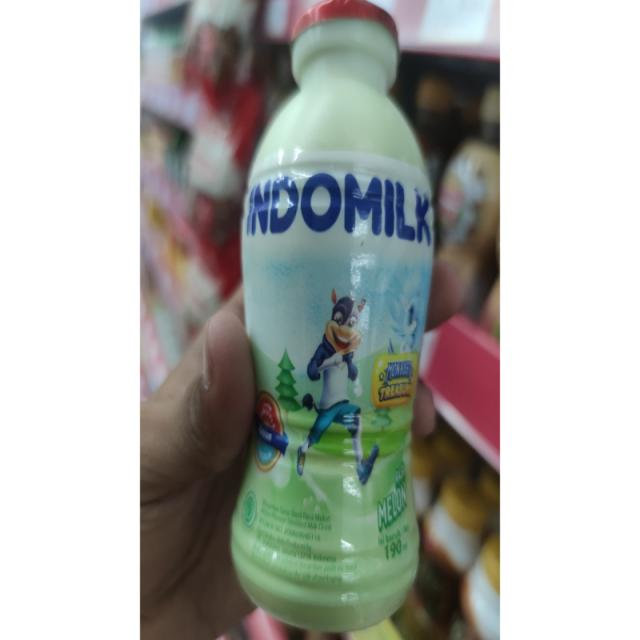botol: (197, 1, 458, 640)
